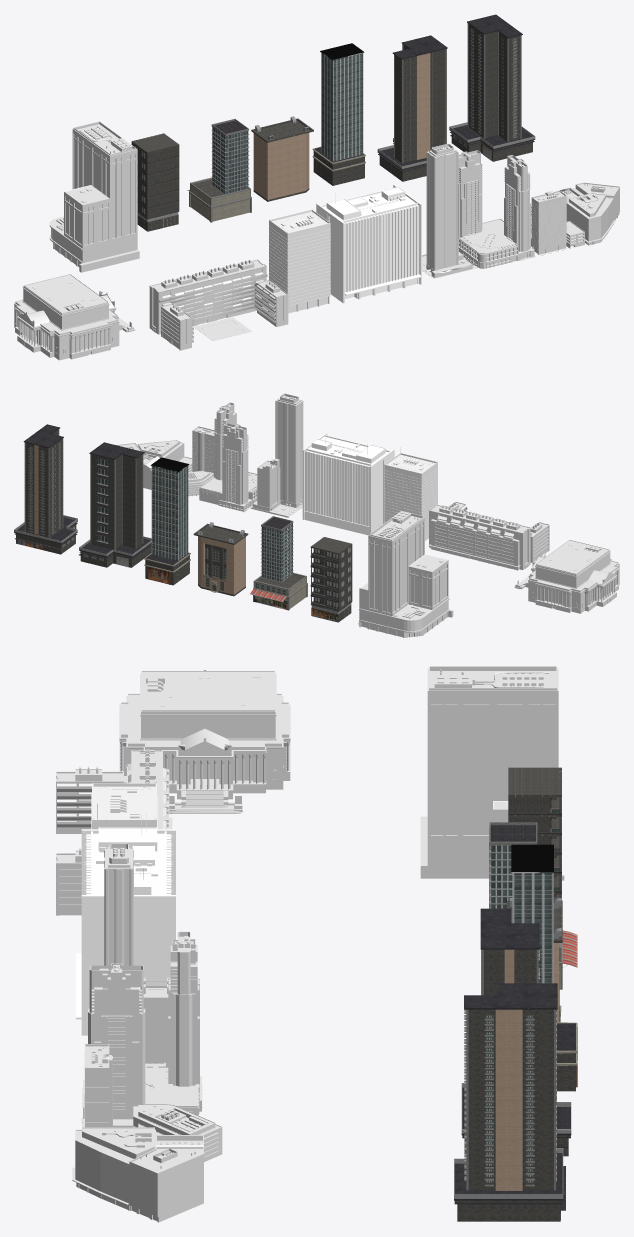
Rendered from building_city_blocks.glb.
3 views of the same model, one above another, from view 1: azimuth 30°, elevation 25°; view 2: azimuth 150°, elevation 25°; view 3: azimuth 270°, elevation 25° (orthographic). The views are drawn at different scales.
Visible parts, largest first — view 1: bina.007, bina.001, bina.008, bina.003, bina.005, bina.010, bina, bina.036, bina.009, bina.006, bina.013, bina.015 (+4 smaller); view 2: bina.007, bina.001, bina.010, bina.008, bina.005, bina.003, bina.036, bina.006, bina, bina.013, bina.012, bina.009 (+4 smaller); view 3: bina.007, bina.003, bina.005, bina, bina.001, bina.004, bina.008, bina.036, bina.006, bina.010, bina.014, bina.012 (+4 smaller).
Boxes of the visible parts, <box> form: bina.007: <box>49,121,139,272</box>; bina.001: <box>316,184,422,303</box>; bina.008: <box>149,259,288,350</box>; bina.003: <box>449,14,535,161</box>; bina.005: <box>14,274,135,360</box>; bina.010: <box>377,35,447,181</box>; bina: <box>458,150,535,268</box>; bina.036: <box>312,43,365,185</box>; bina.009: <box>269,209,330,313</box>; bina.006: <box>422,141,477,278</box>; bina.013: <box>187,119,251,222</box>; bina.015: <box>251,116,313,201</box>; bina.007: <box>358,511,453,637</box>; bina.001: <box>302,432,394,535</box>; bina.010: <box>79,442,151,567</box>; bina.008: <box>428,501,549,570</box>; bina.005: <box>514,540,619,613</box>; bina.003: <box>14,424,77,554</box>; bina.036: <box>144,457,190,585</box>; bina.006: <box>250,393,303,517</box>; bina: <box>199,402,257,512</box>; bina.013: <box>250,516,307,610</box>; bina.012: <box>310,537,352,622</box>; bina.009: <box>384,447,437,540</box>; bina.007: <box>420,666,564,880</box>; bina.003: <box>454,983,565,1221</box>; bina.005: <box>119,670,290,813</box>; bina: <box>81,931,202,1129</box>; bina.001: <box>76,812,175,1035</box>; bina.004: <box>72,1127,203,1222</box>; bina.008: <box>56,749,172,915</box>; bina.036: <box>511,844,577,1091</box>; bina.006: <box>104,843,170,1066</box>; bina.010: <box>461,908,571,1156</box>; bina.014: <box>84,1043,222,1161</box>; bina.012: <box>508,767,561,900</box>.
Size of the model in its own units: 258 by 54.21 by 115.
Materials: 12 (2 with a texture image).
